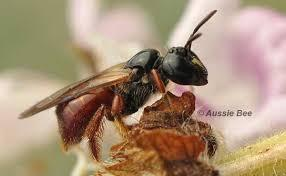Braunsapis: (24, 7, 226, 166)
